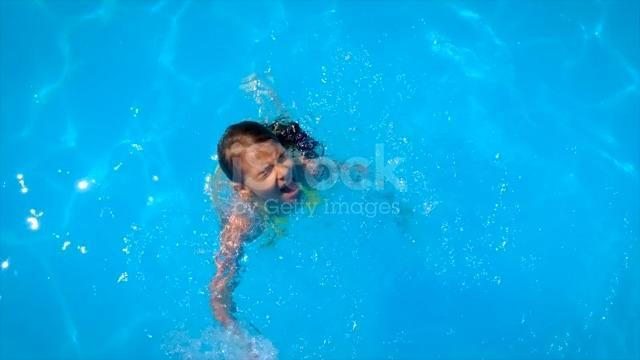drowning: (194, 79, 330, 348)
